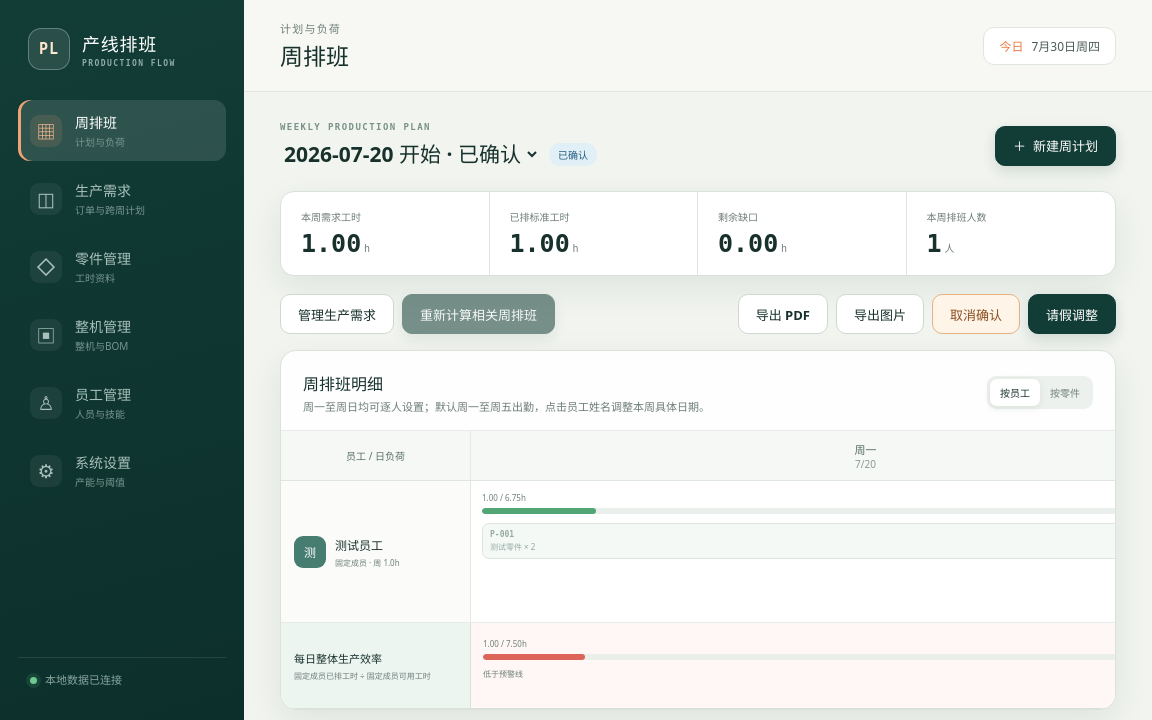
Test: 应用导航与容量展示 › 已确认周排班可导出PDF并显示保存路径
The image size is (1152, 720).
Expected: the text "每日整体生产效率" is shown, [294,651,382,666]
Expected: the text "低于预警线" is shown, [483,668,523,679]
Click the button "导出 PDF".
click(783, 314)  # box [738,294,828,334]
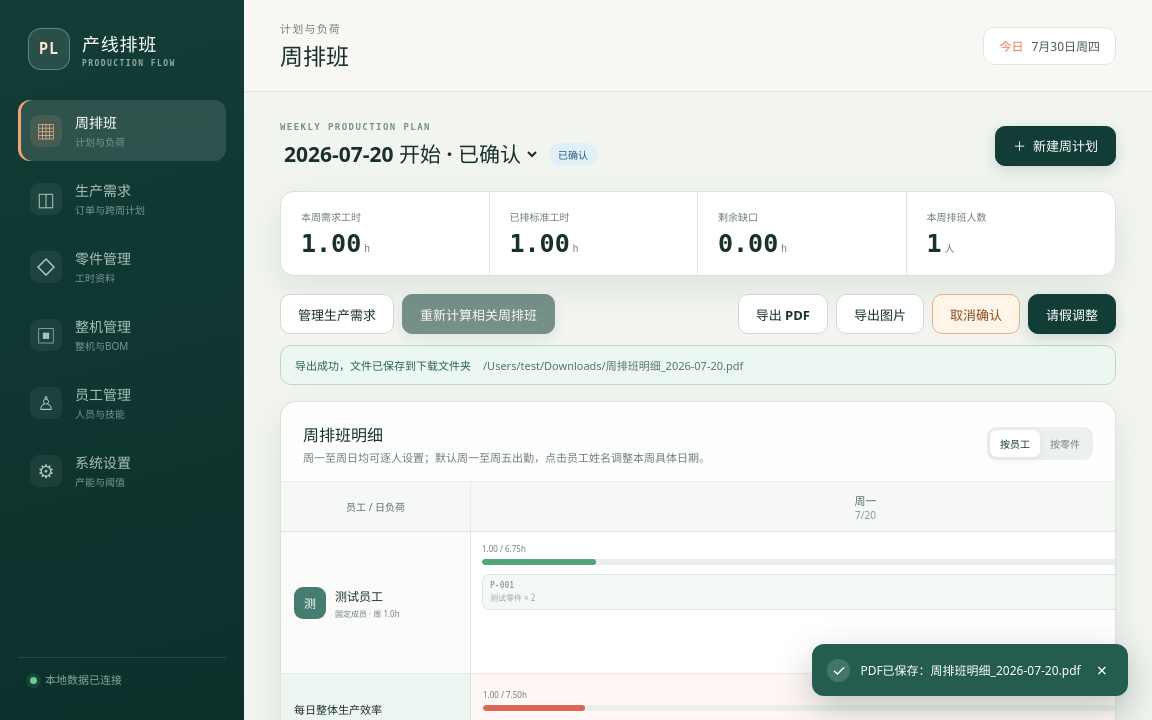
Now the text "导出成功，文件已保存到下载文件夹" is shown, box [295,357,471,373]
Now the text "/Users/test/Downloads/周排班明细_2026-07-20.pdf" is shown, box [483,357,743,373]
